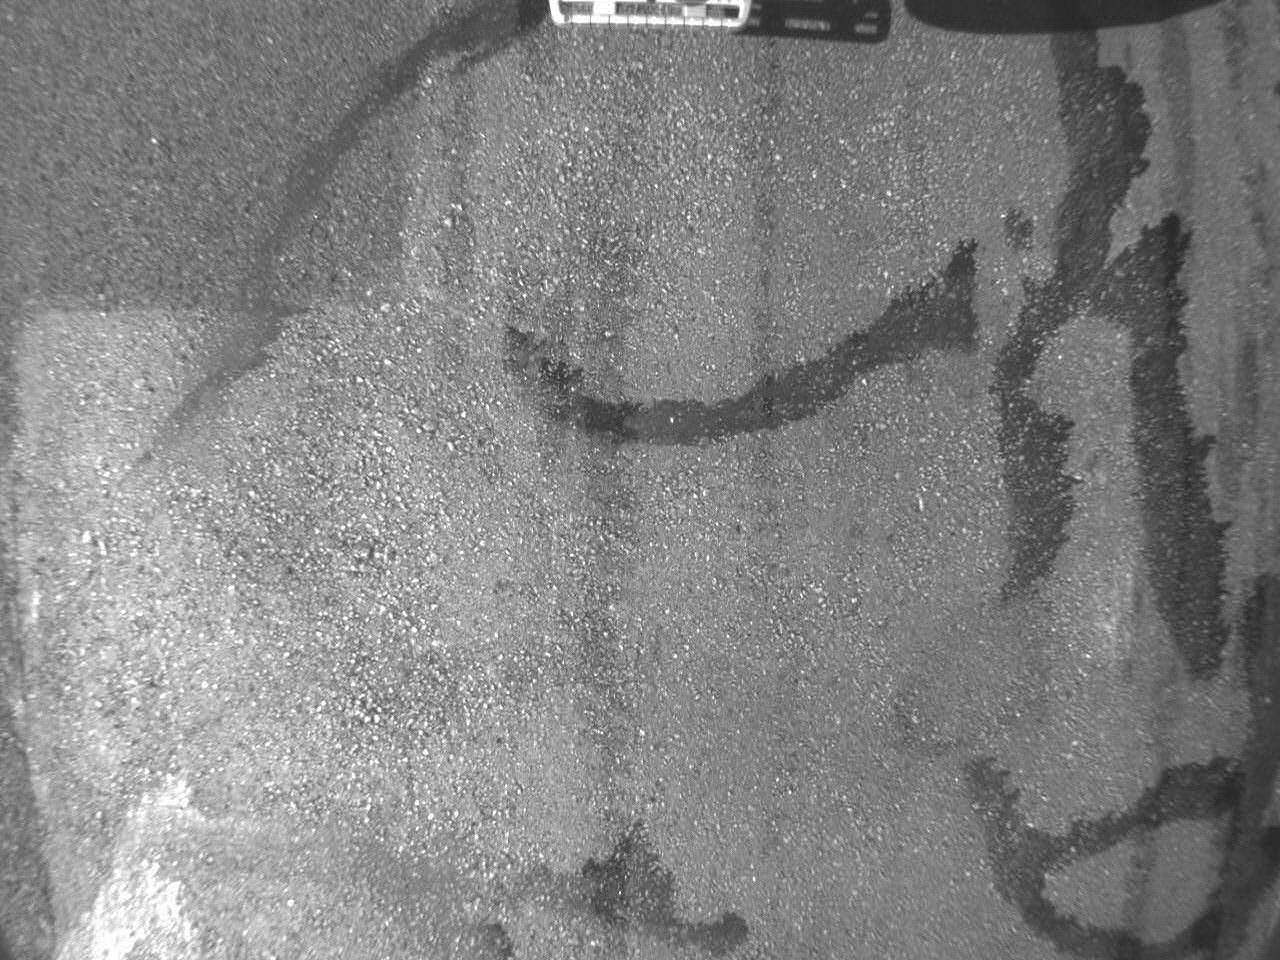sealed: (984, 16, 1270, 944), (464, 238, 972, 466)
